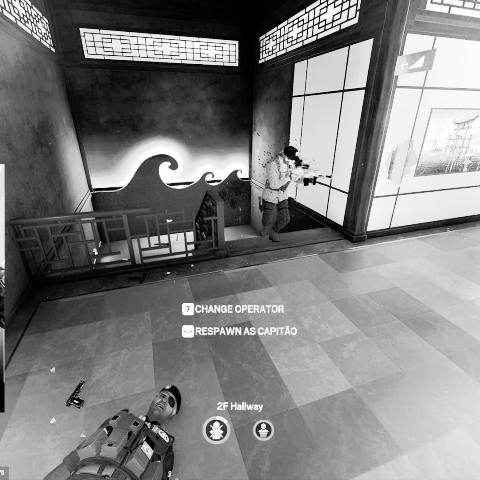Character: (257, 144, 334, 245)
Head: (280, 145, 301, 166)
